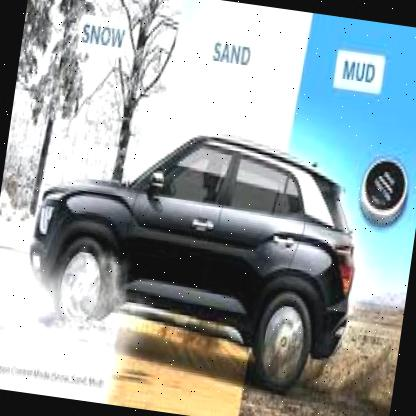car: (1, 100, 378, 402)
